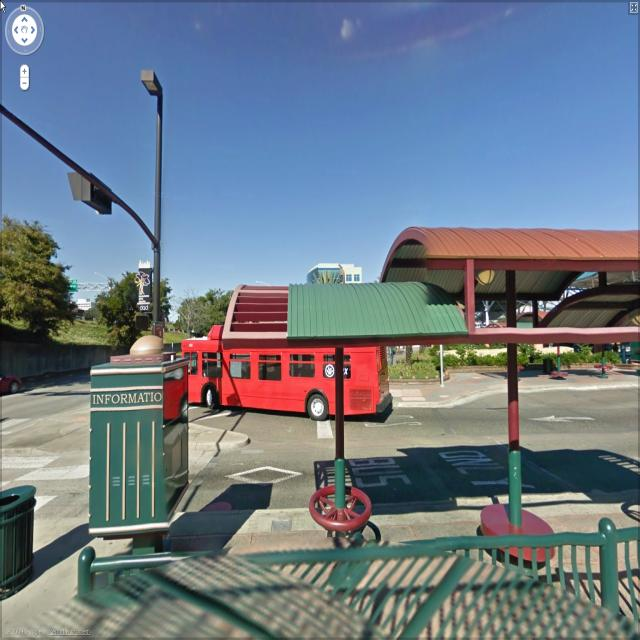b_1: (307, 260, 363, 280)
